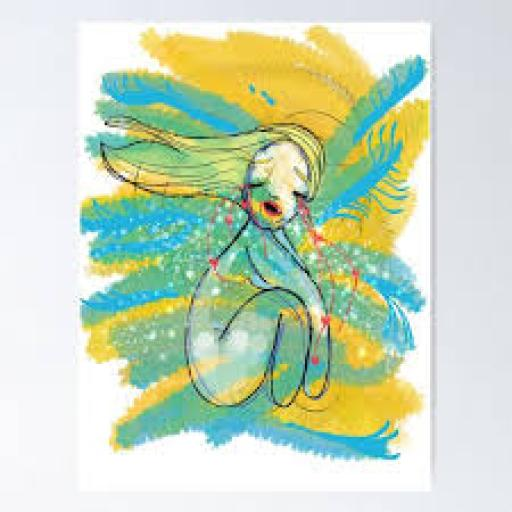person: (98, 104, 334, 444)
